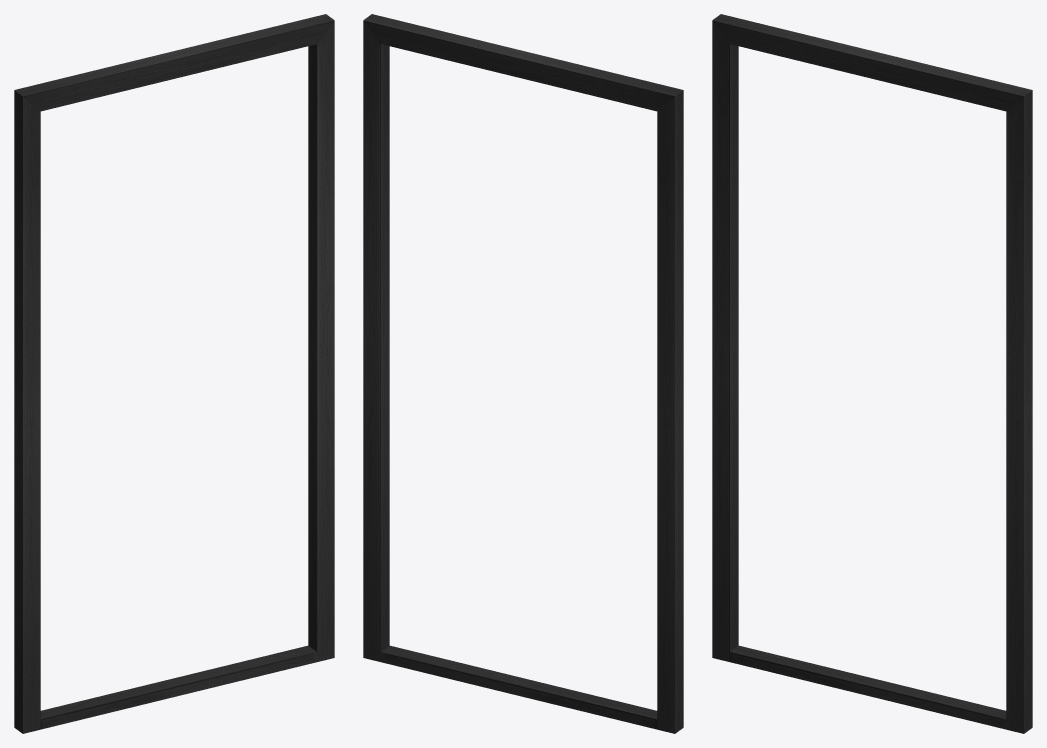
Rendered from Door08Frame.FBX.
3 views of the same model, side by side, from view 1: azimuth 30°, elevation 25°; view 2: azimuth 150°, elevation 25°; view 3: azimuth 330°, elevation 25° (orthographic).
Parts seen in each view (by area): view 1: Door08Frame; view 2: Door08Frame; view 3: Door08Frame.
Part boxes in pixels (left/top/right/bottom): Door08Frame: left=14, top=14, right=334, bottom=733; Door08Frame: left=363, top=14, right=683, bottom=733; Door08Frame: left=712, top=14, right=1032, bottom=733.
Bounding box in the file's own units: 44.42 × 86.76 × 2.17.
